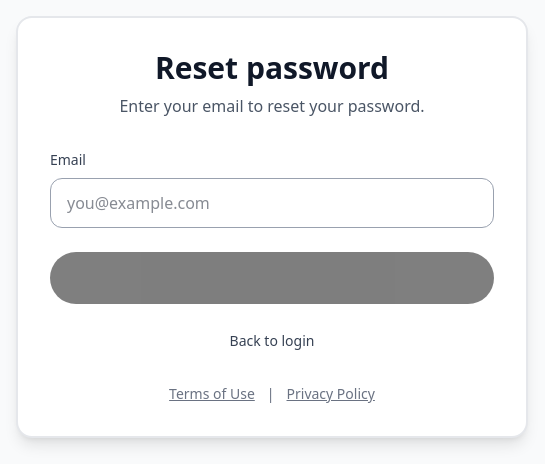
Test case: ForgotPasswordPage › shows success message after successful submit
Type "user@example.com" into the field labelled "Email" at {"x": 272, "y": 203}, box [50,178,494,228]
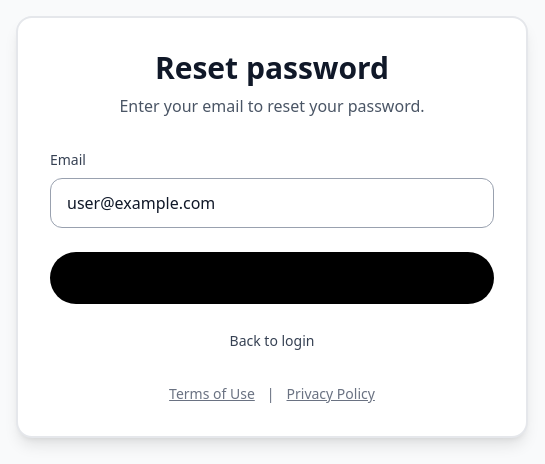
Click the button "Continue" at {"x": 272, "y": 278}, box [50,252,494,304]
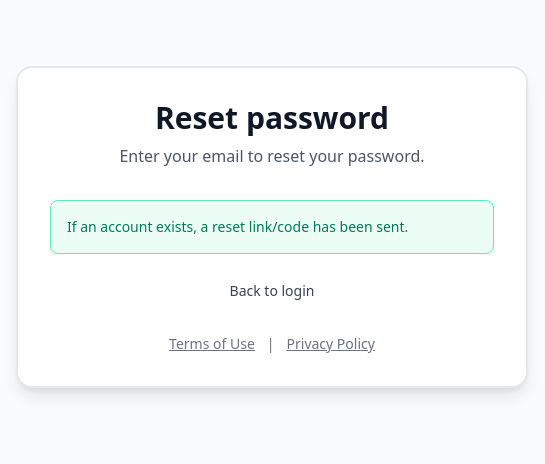
expect the text "If an account exists, a reset link/code has been sent." is shown: met, box [50,200,494,254]
